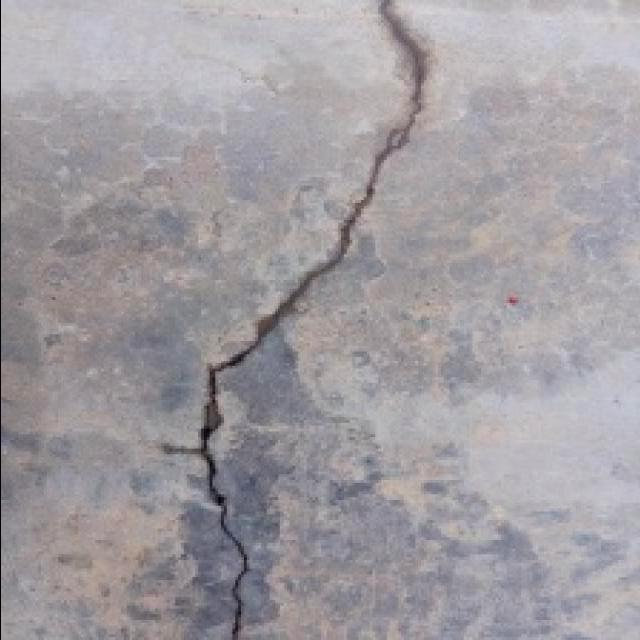SurfaceCrack: (168, 6, 446, 640)
